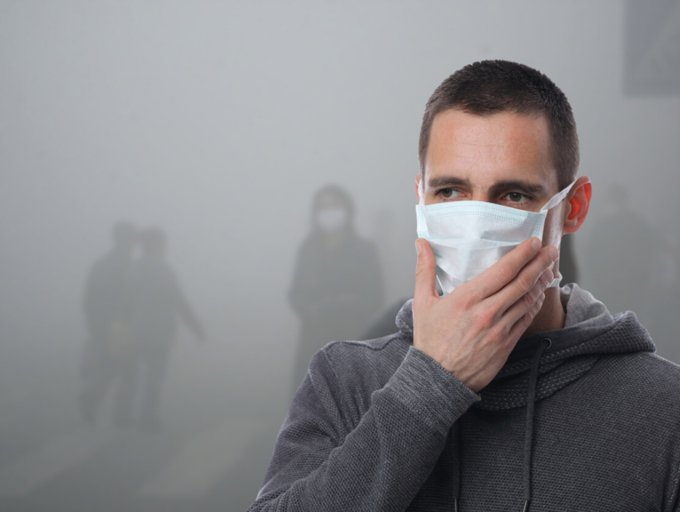mask: (390, 51, 599, 314)
